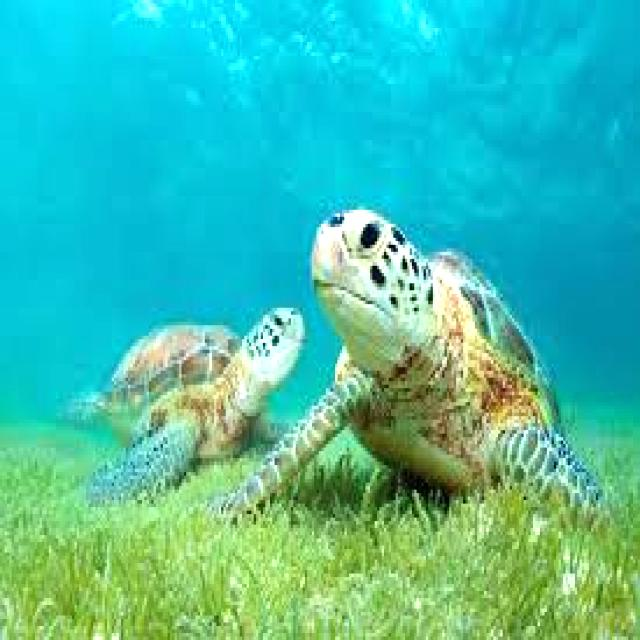Sea turtle: (291, 201, 611, 540), (55, 288, 312, 515)
